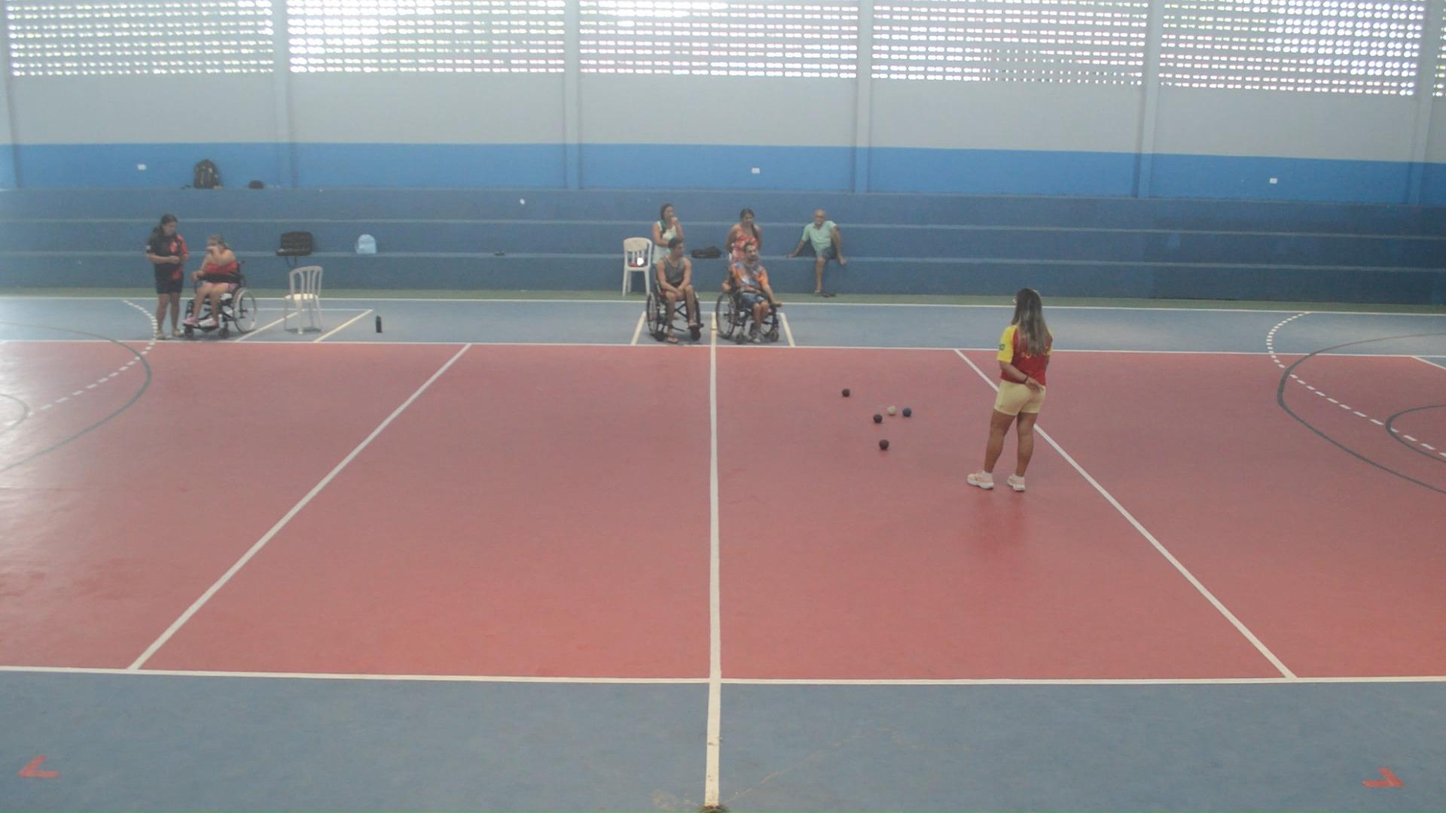blue_ball: (901, 407, 912, 418)
red_ball: (877, 438, 890, 451), (872, 413, 884, 424), (841, 388, 851, 398)
white_ball: (886, 405, 898, 416)
